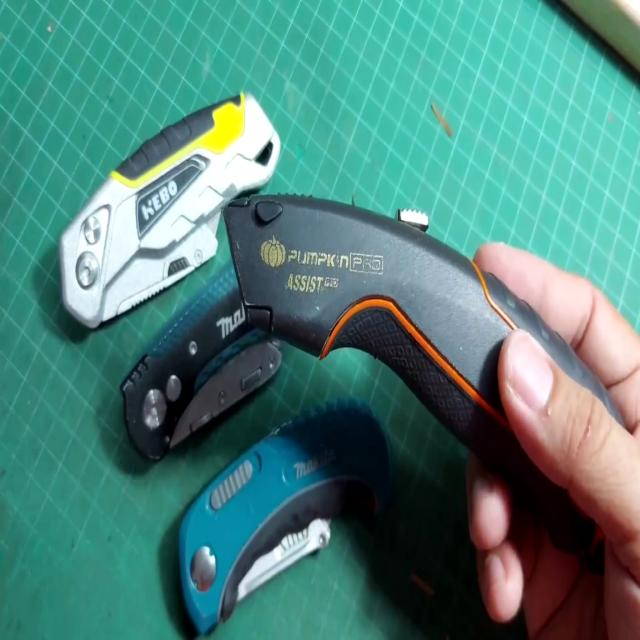cutter: (35, 51, 640, 640)
